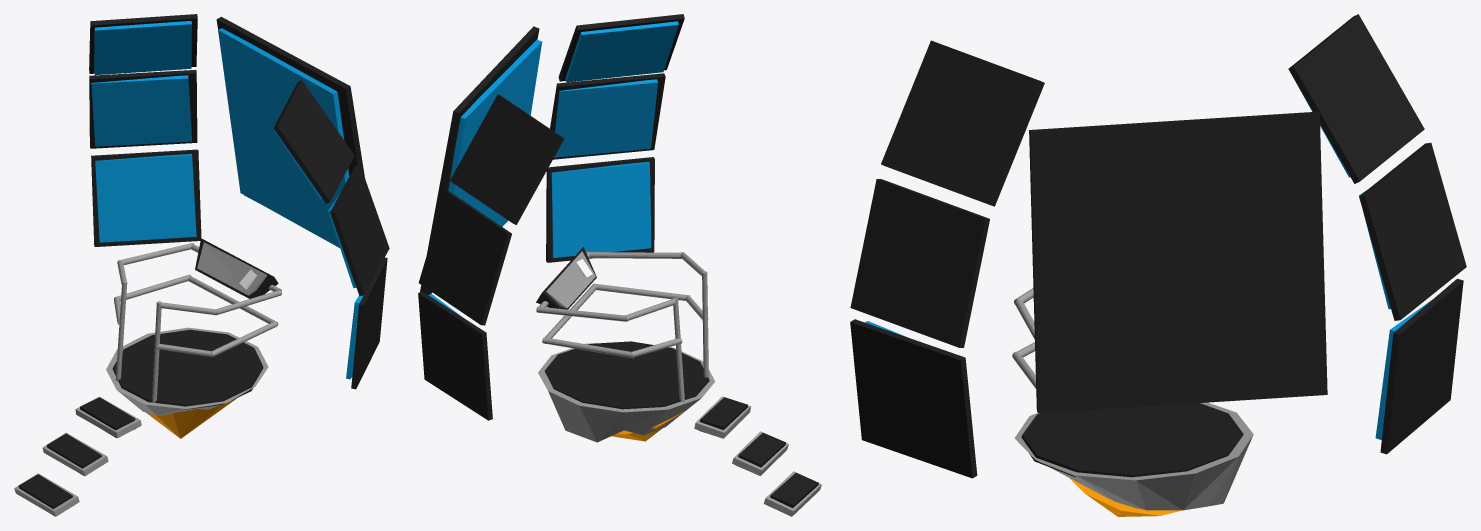
File: control_panel.glb
3 views of the same model, side by side, from view 1: azimuth 30°, elevation 25°; view 2: azimuth 150°, elevation 25°; view 3: azimuth 270°, elevation 25° (orthographic). The views are drawn at different scales.
Parts seen in each view (by area): view 1: group1708249316, group74189958, group1001698855, group2137995816, group790063039, group323040533, group25975392, group1453473792, group1334557865, group1873841106, group890135078, group1865001960 (+18 smaller); view 2: group1364229006, group704566713, group1001698855, group1865001960, group1121119362, group1873841106, group873198295, group890135078, group1708249316, group1453473792, group1334557865, group25975392 (+15 smaller); view 3: group1453473792, group790063039, group25975392, group1334557865, group1001698855, group704566713, group1865001960, group1873841106, group890135078, group2006068084, group74189958.
Boxes of the visible parts, <box> form: group1708249316: <box>218,28,349,247</box>; group74189958: <box>95,154,196,242</box>; group1001698855: <box>112,329,263,409</box>; group2137995816: <box>91,75,191,146</box>; group790063039: <box>273,80,354,203</box>; group323040533: <box>94,21,191,75</box>; group25975392: <box>330,164,389,296</box>; group1453473792: <box>216,16,364,200</box>; group1334557865: <box>351,257,387,389</box>; group1873841106: <box>91,149,201,246</box>; group890135078: <box>106,327,268,415</box>; group1865001960: <box>89,70,197,148</box>; group1364229006: <box>551,161,651,257</box>; group704566713: <box>450,94,564,224</box>; group1001698855: <box>544,341,709,409</box>; group1865001960: <box>418,191,511,325</box>; group1121119362: <box>554,79,657,157</box>; group1873841106: <box>418,291,492,420</box>; group873198295: <box>565,21,678,82</box>; group890135078: <box>538,343,715,442</box>; group1708249316: <box>448,40,542,226</box>; group1453473792: <box>420,26,539,294</box>; group1334557865: <box>546,157,654,262</box>; group25975392: <box>550,73,665,159</box>; group1453473792: <box>1029,111,1327,413</box>; group790063039: <box>881,40,1044,206</box>; group25975392: <box>850,179,989,347</box>; group1334557865: <box>850,319,977,478</box>; group1001698855: <box>1021,403,1243,477</box>; group704566713: <box>1288,14,1424,183</box>; group1865001960: <box>1359,142,1466,320</box>; group1873841106: <box>1380,278,1463,454</box>; group890135078: <box>1014,402,1253,510</box>; group2006068084: <box>1069,478,1182,516</box>; group74189958: <box>1375,300,1431,439</box>.
Size of the model in its own units: 1.46 by 1.68 by 1.72.
